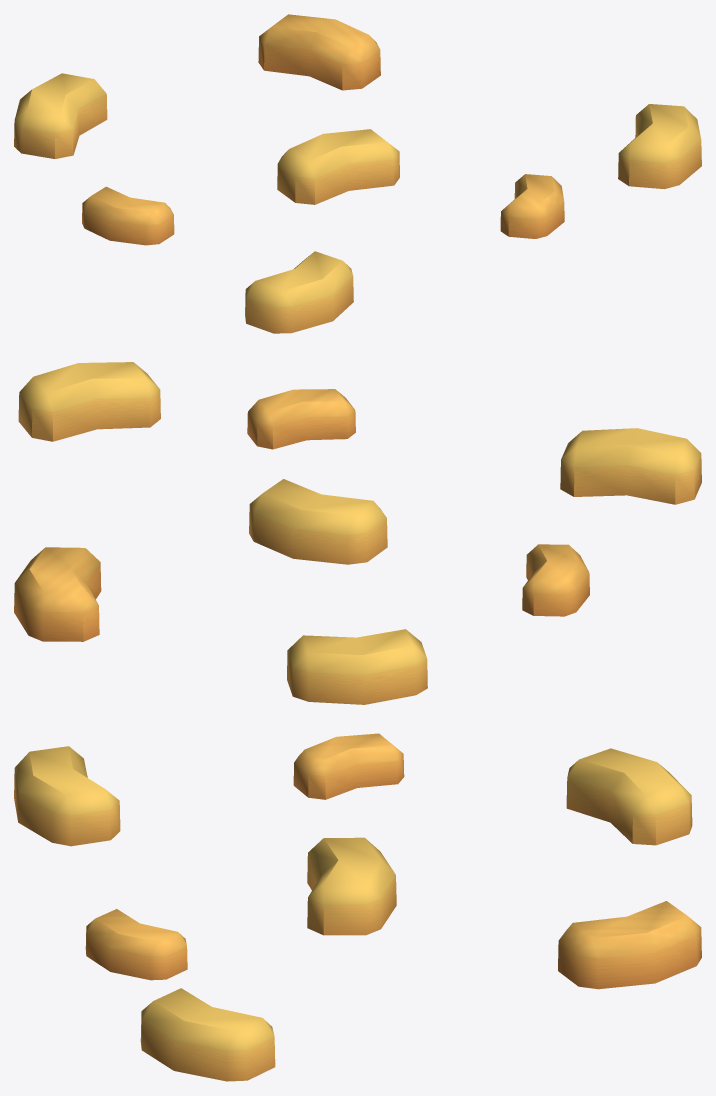
The model's file is food_ingredient_cheese_grated.gltf.
3 renders of one model, top to bottom at view 1: azimuth 30°, elevation 25°; view 2: azimuth 150°, elevation 25°; view 3: azimuth 270°, elevation 25°, orthographic. The views are drawn at different scales.
Parts seen in each view (by area): view 1: food_ingredient_cheese_grated; view 2: food_ingredient_cheese_grated; view 3: food_ingredient_cheese_grated.
Part boxes in pixels (x1,y1,x2,y2): food_ingredient_cheese_grated: [14, 14, 701, 333]; food_ingredient_cheese_grated: [14, 362, 701, 704]; food_ingredient_cheese_grated: [14, 733, 701, 1081].
Size of the model in its own units: 1.05 by 0.0706 by 0.9704.
Materials: 1 (1 with a texture image).
